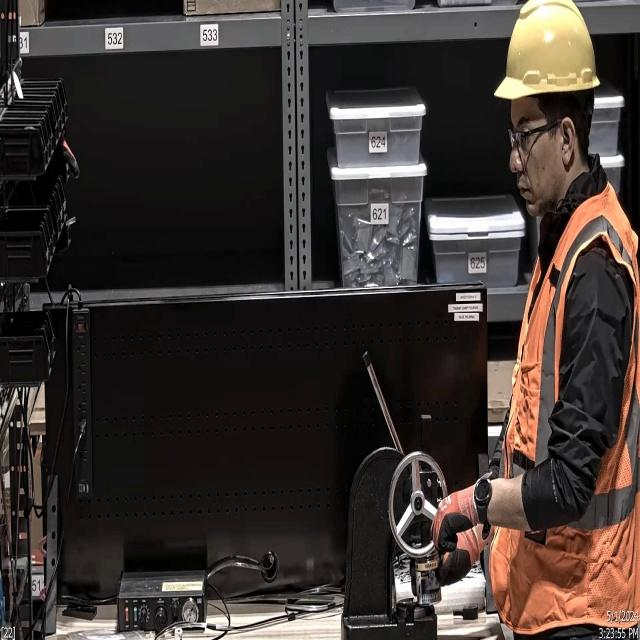construction-gloves: (431, 481, 485, 556)
